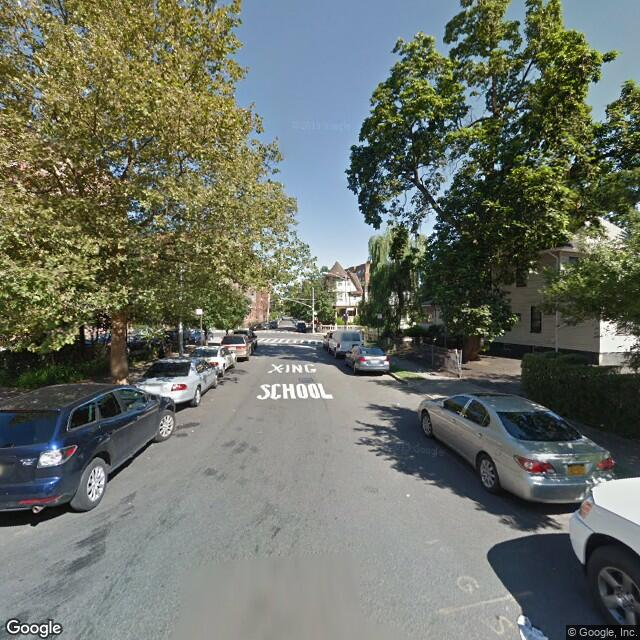litter: (515, 615, 548, 640), (405, 492, 412, 498)
